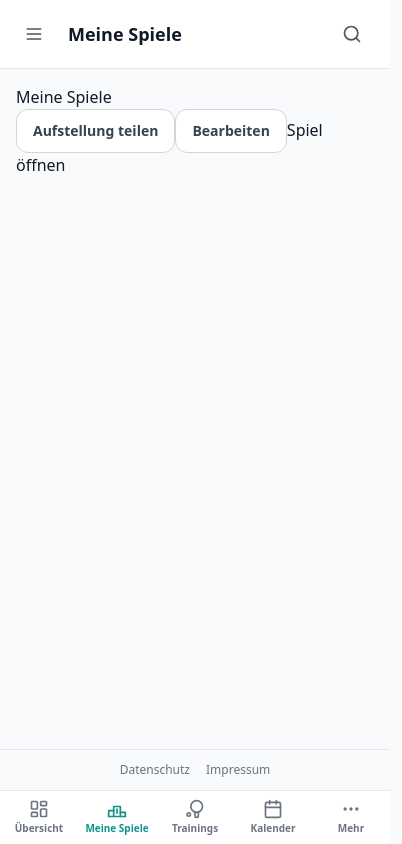
Test: Zurückwischen schließt zuerst den Dialog › ein Link im Menü führt auch dann zur neuen Seite, wenn diese erst nachlädt
The image size is (402, 844).
Click the button named "Menü öffnen": (34, 34) [12, 12, 56, 56]
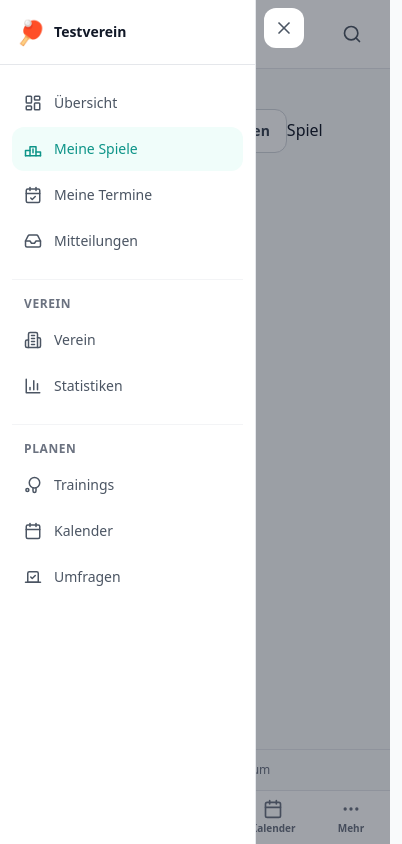
Click the link "Umfragen": (72, 576) [24, 567, 121, 586]
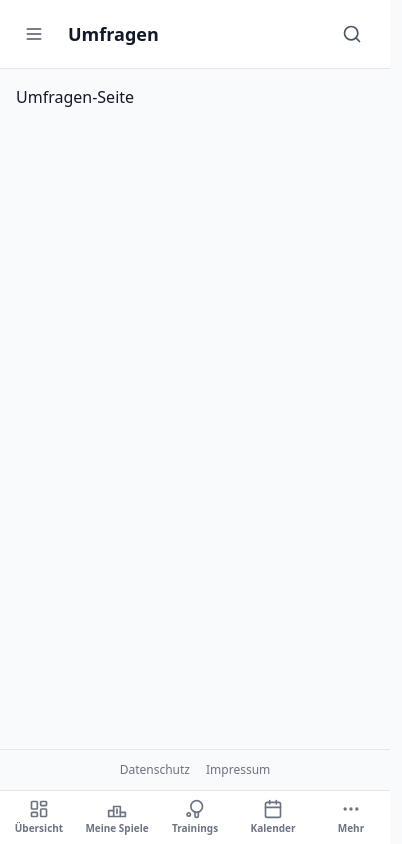
Result: the heading "Umfragen-Seite" is shown at [16, 86, 134, 108]
